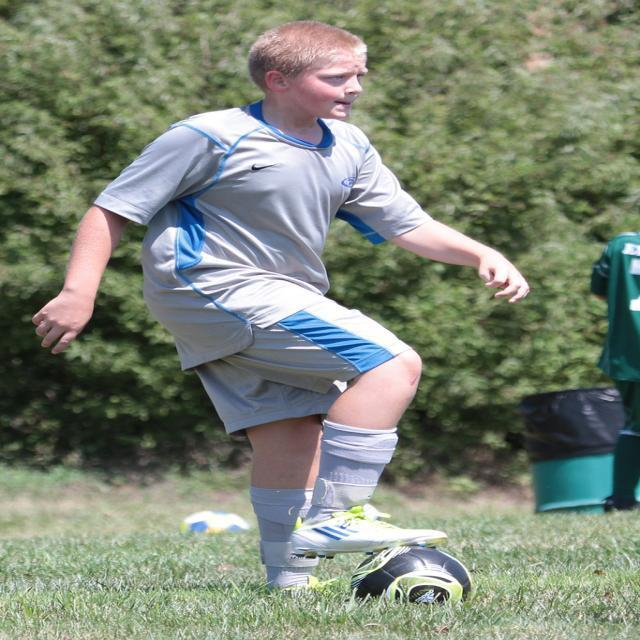football: (334, 515, 471, 622)
